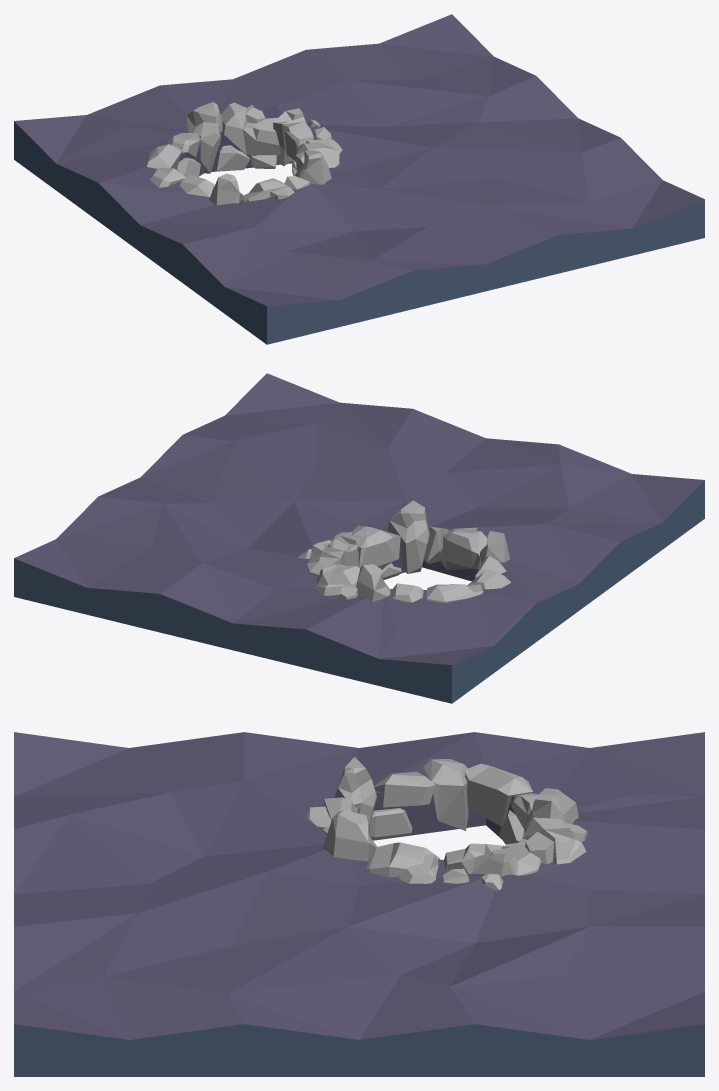
The model's file is fbTileGroundTop2.fbx.
3 renders of one model, top to bottom at view 1: azimuth 30°, elevation 25°; view 2: azimuth 150°, elevation 25°; view 3: azimuth 270°, elevation 25°, orthographic. The views are drawn at different scales.
Parts seen in each view (by area): view 1: polySurface72, polySurface70, fbWell; view 2: polySurface72, polySurface70, fbWell; view 3: polySurface72, polySurface70, fbWell.
Part boxes in pixels (bbox=[...]): polySurface72: bbox=[14, 14, 704, 305]; polySurface70: bbox=[14, 121, 704, 344]; fbWell: bbox=[145, 102, 342, 205]; polySurface72: bbox=[14, 373, 704, 664]; polySurface70: bbox=[14, 480, 704, 703]; fbWell: bbox=[297, 500, 510, 602]; polySurface72: bbox=[14, 732, 704, 1039]; polySurface70: bbox=[14, 1024, 704, 1076]; fbWell: bbox=[306, 757, 587, 890].
Size of the model in its own units: 1000 by 144 by 1000.
